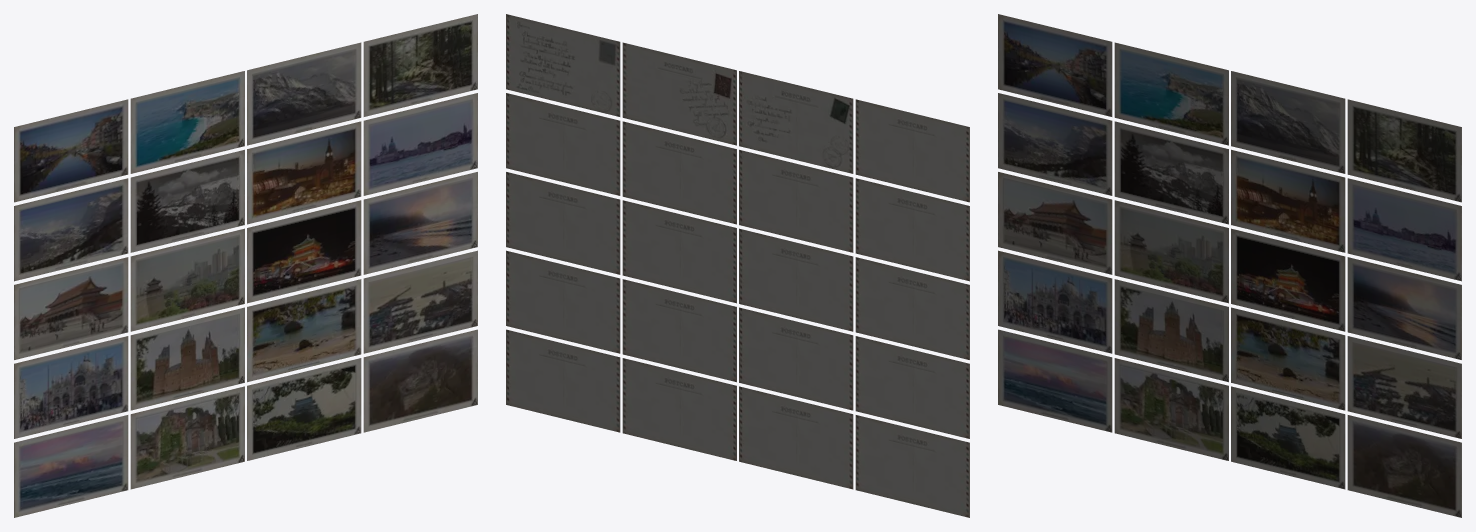
File: postcard_set_01.glb
3 renders of one model, left to right at view 1: azimuth 30°, elevation 25°; view 2: azimuth 150°, elevation 25°; view 3: azimuth 330°, elevation 25°, orthographic.
Visible parts, largest first — view 1: postcard_01; view 2: postcard_01; view 3: postcard_01.
Boxes of the visible parts, x1,y1,x2,y2 form: postcard_01: (14, 14, 477, 517); postcard_01: (506, 14, 969, 517); postcard_01: (998, 14, 1461, 517).
Bounding box in the file's own units: 0.6767 × 0.545 × 0.000165.
Materials: 1 (1 with a texture image).
